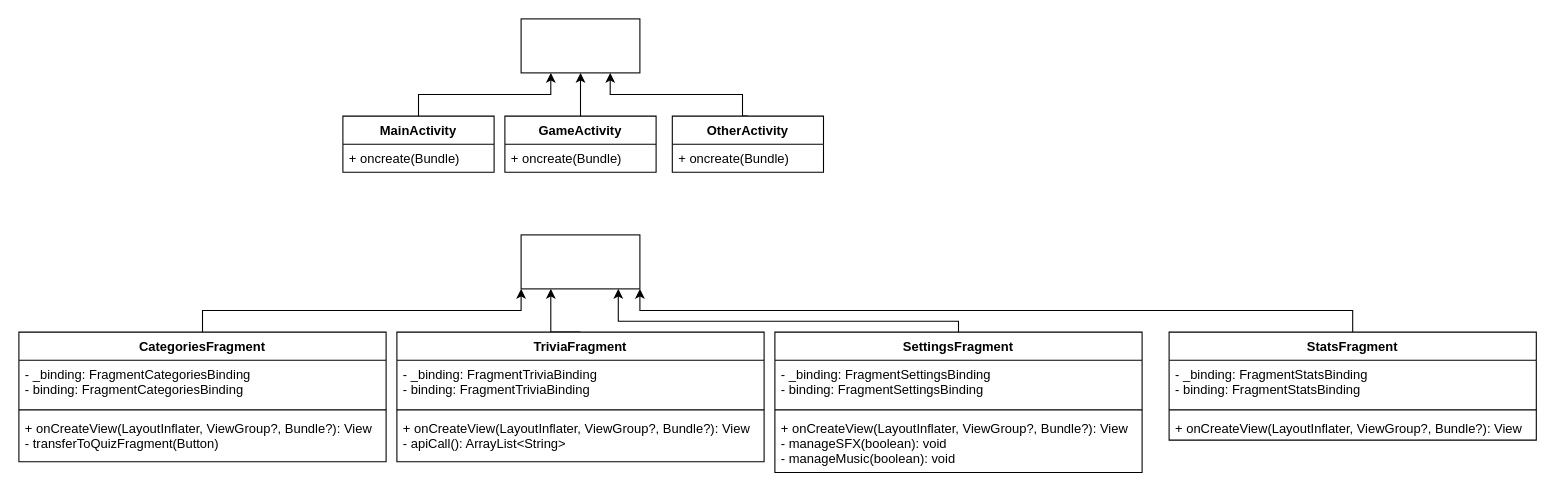
Image size: 1555x495. Some labels were removed from this diagram. Here are the shapes that lost their labels. From the top down, the centre of each, then its label:
(580,45): AppCompatActivity
(580,261): Fragment
